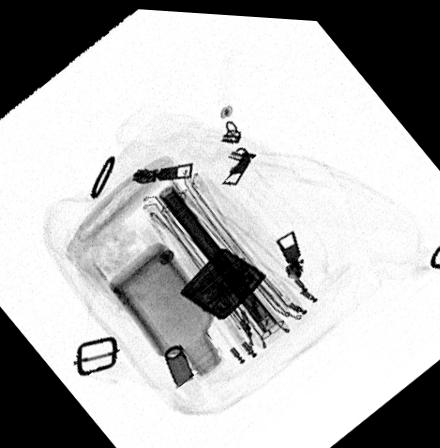Lighter: (179, 244, 267, 317)
